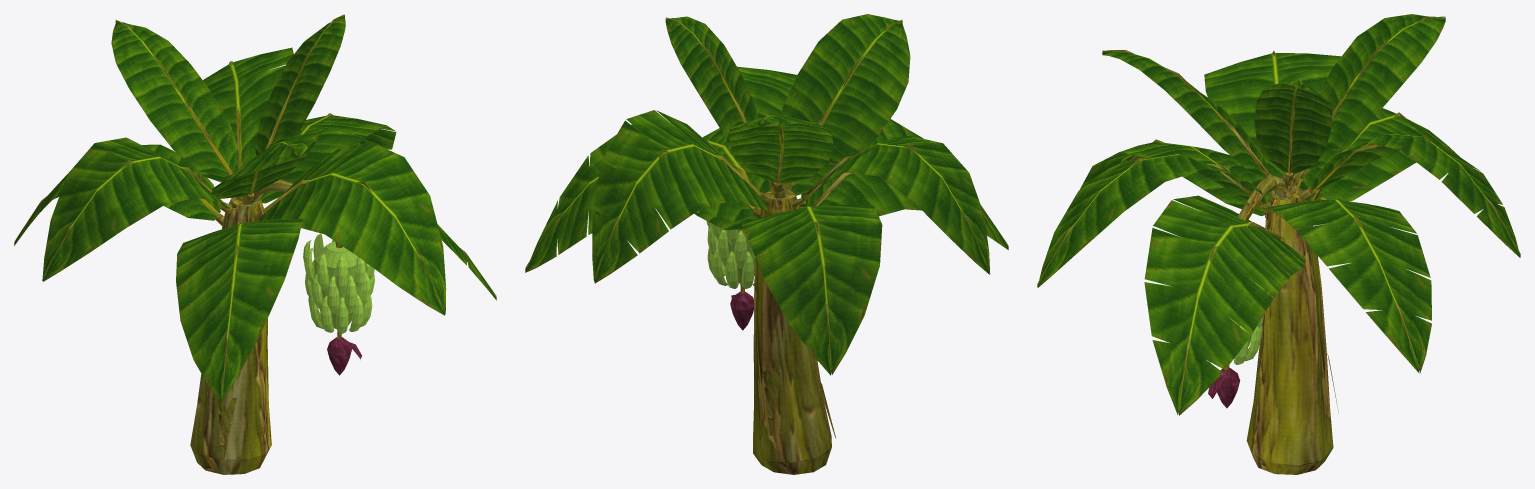
Rendered from Bananeira-06-Arredondada.glb.
3 renders of one model, left to right at view 1: azimuth 30°, elevation 25°; view 2: azimuth 150°, elevation 25°; view 3: azimuth 270°, elevation 25°, orthographic. The views are drawn at different scales.
Parts seen in each view (by area): view 1: Planta/Folha 5, Planta/Folha 2, Planta/Folha 6, Planta/Folha 9, Planta/Caule, Cacho/Cacho - pencas, Planta/Folha 10, Planta/Folha 7, Planta/Folha 4, Planta/Folha 8, Planta/Folha 3, Planta/Caule bainhas (+3 smaller); view 2: Planta/Folha 7, Planta/Folha 3, Planta/Folha 8, Planta/Caule, Planta/Folha 6, Planta/Folha 9, Planta/Folha 10, Planta/Folha 4, Planta/Folha 2, Cacho/Cacho - pencas, Planta/Folha 5, Planta/Folha 1 (+2 smaller); view 3: Planta/Folha 1, Planta/Caule, Planta/Folha 4, Planta/Folha 9, Planta/Folha 5, Planta/Folha 7, Planta/Folha 10, Planta/Folha 6, Planta/Folha 8, Planta/Folha 3, Planta/Folha 2, Cacho/Haste (+2 smaller).
Boxes of the visible parts, x1=… form: Planta/Folha 5: x1=258, y1=142, x2=446, y2=315; Planta/Folha 2: x1=176, y1=218, x2=302, y2=401; Planta/Folha 6: x1=42, y1=137, x2=229, y2=281; Planta/Folha 9: x1=111, y1=20, x2=237, y2=177; Planta/Caule: x1=190, y1=197, x2=271, y2=474; Cacho/Cacho - pencas: x1=303, y1=233, x2=374, y2=333; Planta/Folha 10: x1=255, y1=15, x2=345, y2=155; Planta/Folha 7: x1=199, y1=47, x2=293, y2=182; Planta/Folha 4: x1=260, y1=115, x2=396, y2=203; Planta/Folha 8: x1=211, y1=128, x2=323, y2=198; Planta/Folha 3: x1=14, y1=144, x2=220, y2=245; Planta/Caule bainhas: x1=218, y1=398, x2=236, y2=463; Planta/Folha 7: x1=592, y1=110, x2=768, y2=283; Planta/Folha 3: x1=741, y1=205, x2=882, y2=375; Planta/Folha 8: x1=781, y1=14, x2=910, y2=178; Planta/Caule: x1=753, y1=190, x2=831, y2=474; Planta/Folha 6: x1=798, y1=135, x2=990, y2=274; Planta/Folha 9: x1=729, y1=115, x2=833, y2=183; Planta/Folha 10: x1=665, y1=16, x2=758, y2=144; Planta/Folha 4: x1=525, y1=123, x2=753, y2=272; Planta/Folha 2: x1=801, y1=119, x2=1008, y2=249; Cacho/Cacho - pencas: x1=706, y1=221, x2=755, y2=288; Planta/Folha 5: x1=737, y1=66, x2=820, y2=195; Planta/Folha 1: x1=694, y1=128, x2=770, y2=229; Planta/Folha 1: x1=1144, y1=195, x2=1305, y2=415; Planta/Caule: x1=1246, y1=188, x2=1333, y2=474; Planta/Folha 4: x1=1266, y1=199, x2=1431, y2=373; Planta/Folha 9: x1=1308, y1=14, x2=1445, y2=170; Planta/Folha 5: x1=1037, y1=154, x2=1266, y2=287; Planta/Folha 7: x1=1311, y1=133, x2=1520, y2=257; Planta/Folha 10: x1=1254, y1=80, x2=1332, y2=173; Planta/Folha 6: x1=1204, y1=53, x2=1341, y2=178; Planta/Folha 8: x1=1102, y1=50, x2=1268, y2=178; Planta/Folha 3: x1=1299, y1=108, x2=1459, y2=201; Planta/Folha 2: x1=1080, y1=142, x2=1273, y2=215; Cacho/Haste: x1=1238, y1=176, x2=1291, y2=221.
Bounding box in the file's own units: 3.53 × 3.44 × 3.43.
Materials: 4 (4 with a texture image).
